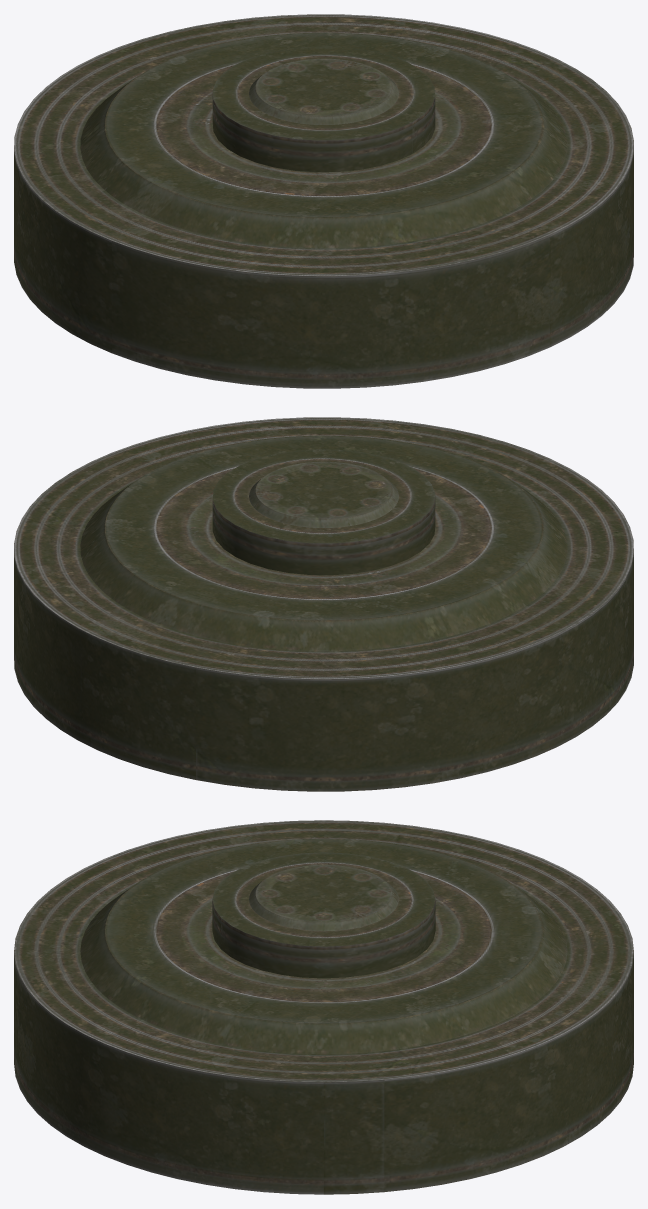
The picture shows the model from 3 angles, top to bottom: view 1: azimuth 30°, elevation 25°; view 2: azimuth 150°, elevation 25°; view 3: azimuth 270°, elevation 25°; orthographic projection.
Visible parts, largest first — view 1: lowpoly, Cylinder; view 2: lowpoly, Cylinder; view 3: lowpoly, Cylinder.
Boxes of the visible parts, x1,y1,x2,y2 form: lowpoly: [14, 14, 633, 388]; Cylinder: [212, 46, 435, 172]; lowpoly: [14, 417, 633, 791]; Cylinder: [212, 449, 435, 575]; lowpoly: [14, 820, 633, 1194]; Cylinder: [212, 852, 435, 978].
Size of the model in its own units: 1.56 by 0.4709 by 1.56.
Materials: 1 (1 with a texture image).
